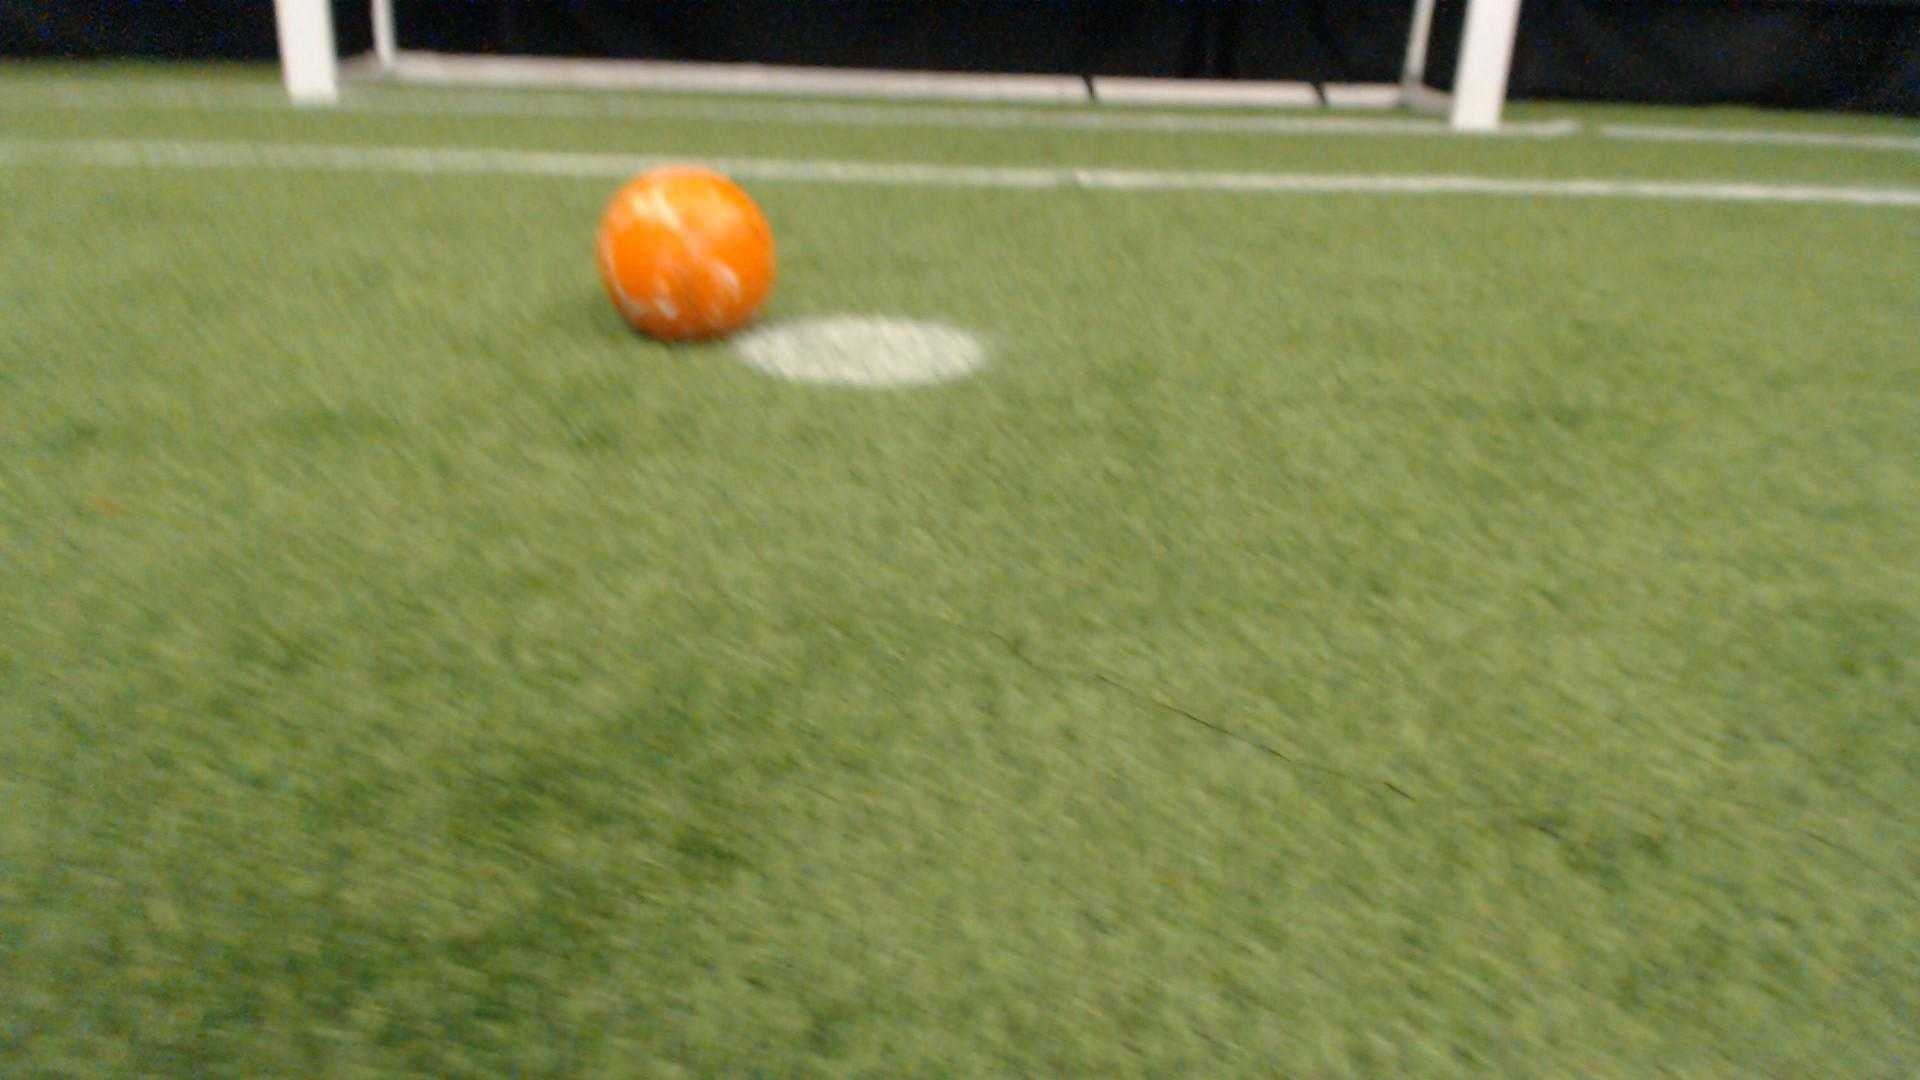bola: (568, 149, 812, 353)
